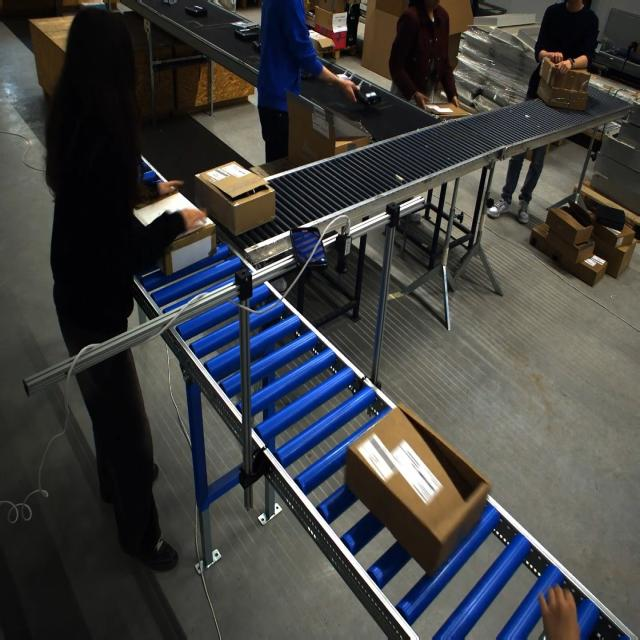box: (349, 416, 487, 575), (133, 185, 216, 277), (193, 161, 275, 238), (535, 58, 591, 110)
product: (354, 87, 378, 106), (185, 5, 208, 17), (233, 22, 260, 31), (335, 70, 354, 81), (252, 39, 261, 52)
